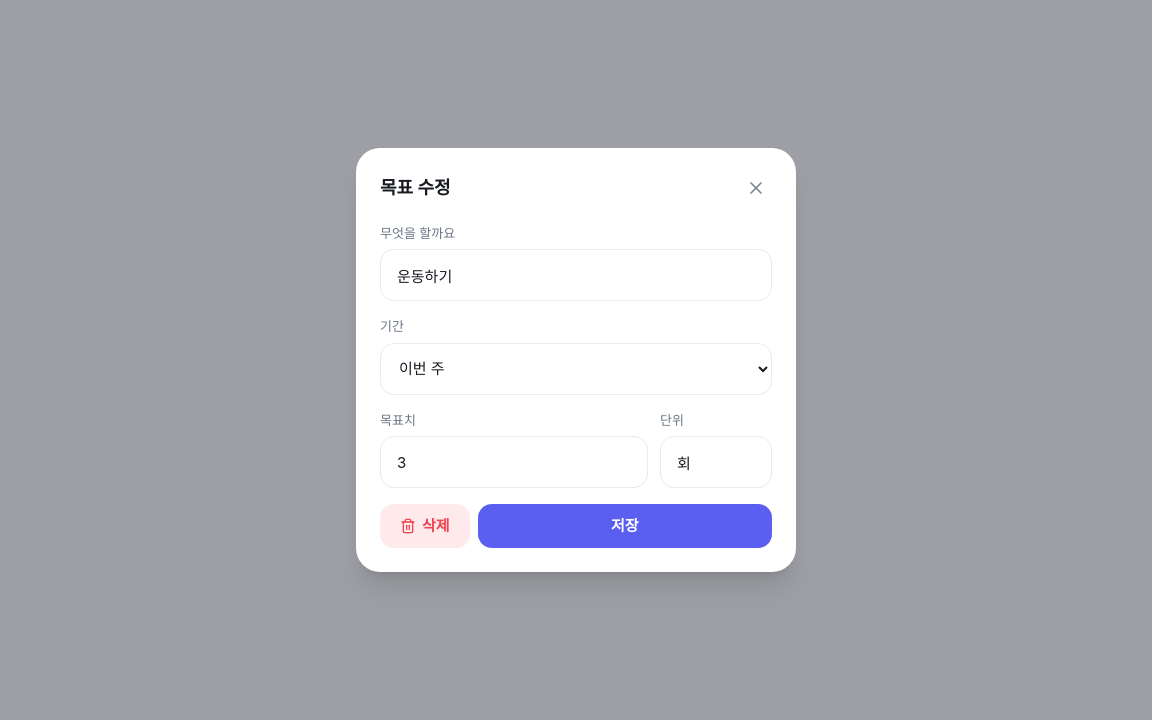
Test case: 기간을 바꾸면 › 원래대로 돌리면 안내도 걷힌다
Step 1. Select "이번 달" in the dropdown labelled "기간" → (576, 369), box x1=380 y1=343 x2=772 y2=395
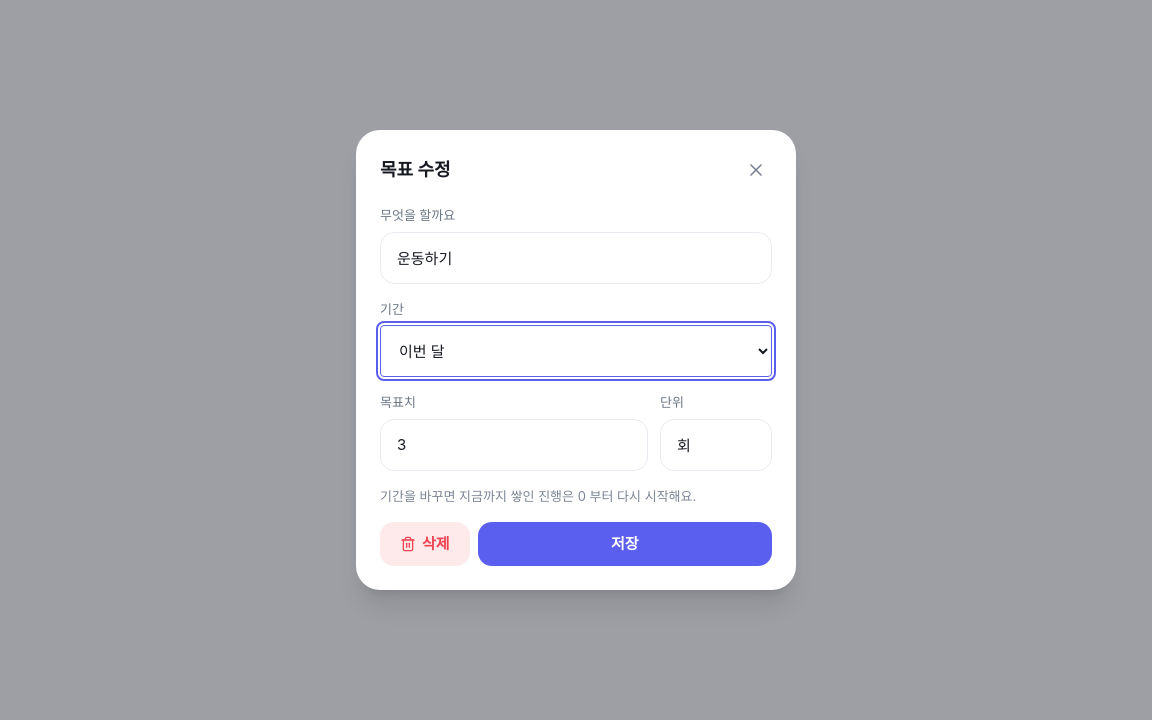
Step 2. Select "이번 주" in the dropdown labelled "기간" → (576, 351), box x1=380 y1=325 x2=772 y2=377
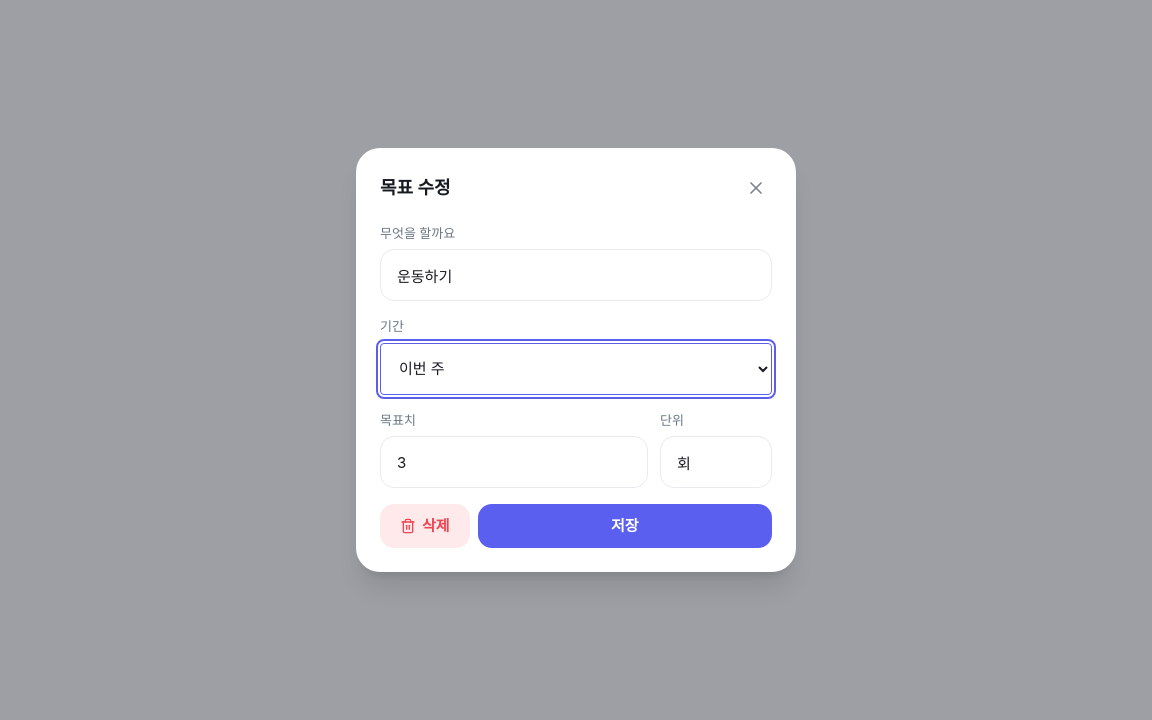
Now the text "0 부터 다시 시작" is gone
